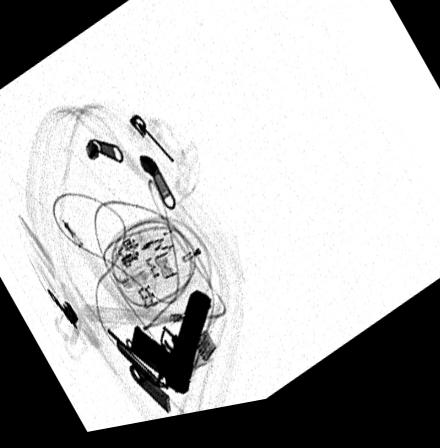Gun: (129, 296, 211, 401)
